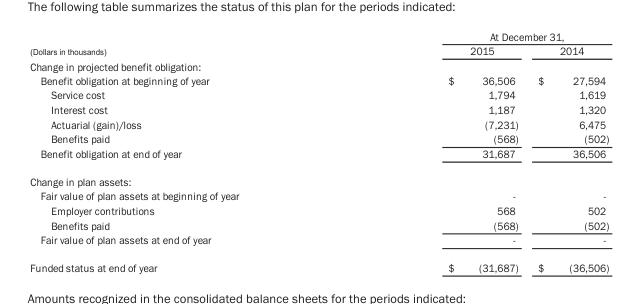table: (29, 29, 608, 273)
table column: (29, 29, 342, 273), (342, 29, 527, 273), (527, 29, 608, 273)
table column header: (29, 29, 608, 58)
table projected row header: (29, 167, 608, 188), (29, 58, 608, 72)
table row: (29, 145, 608, 167), (29, 167, 608, 188), (29, 232, 608, 253), (29, 253, 608, 273), (29, 43, 608, 58), (29, 72, 608, 87), (29, 101, 608, 116), (29, 116, 608, 131), (29, 202, 608, 217), (29, 217, 608, 232), (29, 29, 608, 43), (29, 58, 608, 72), (29, 87, 608, 101), (29, 131, 608, 145), (29, 188, 608, 202)
table spanning cell: (29, 29, 342, 58), (342, 29, 608, 43)
